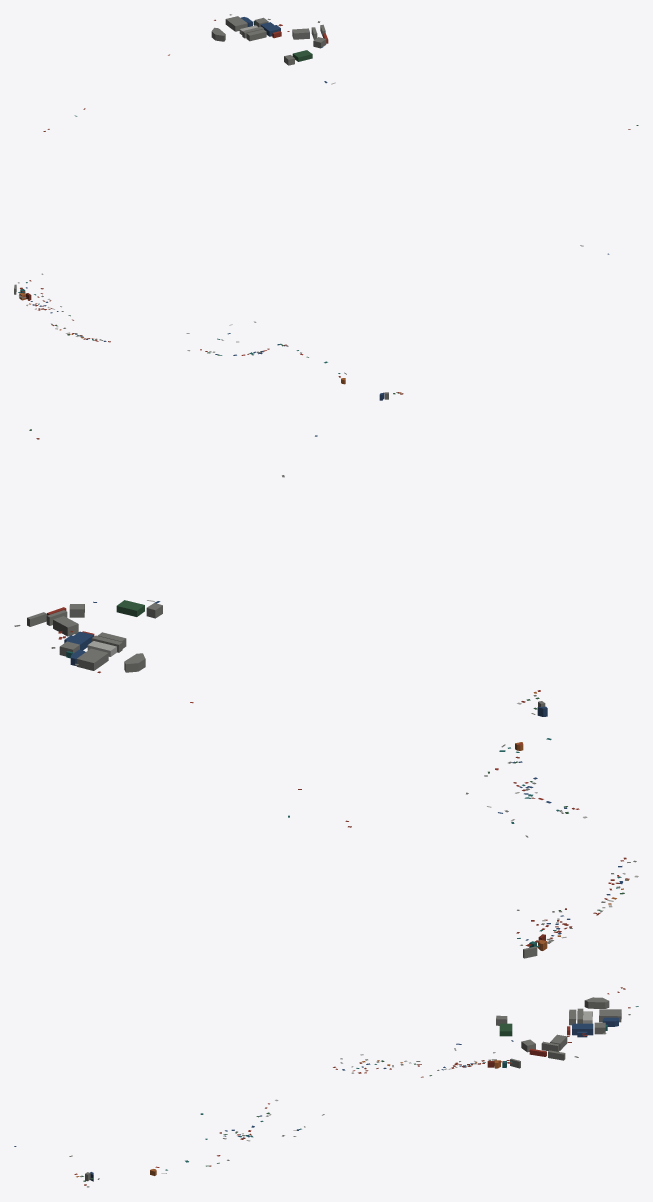
Rendered from far-14-13681-7437.0e24f7b4.glb.
3 views of the same model, one above another, from view 1: azimuth 30°, elevation 25°; view 2: azimuth 150°, elevation 25°; view 3: azimuth 270°, elevation 25° (orthographic). The views are drawn at different scales.
Bounding box in the file's own units: 2350 × 864 × 2277.
